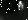person: (18, 1, 25, 13), (8, 1, 14, 14)
